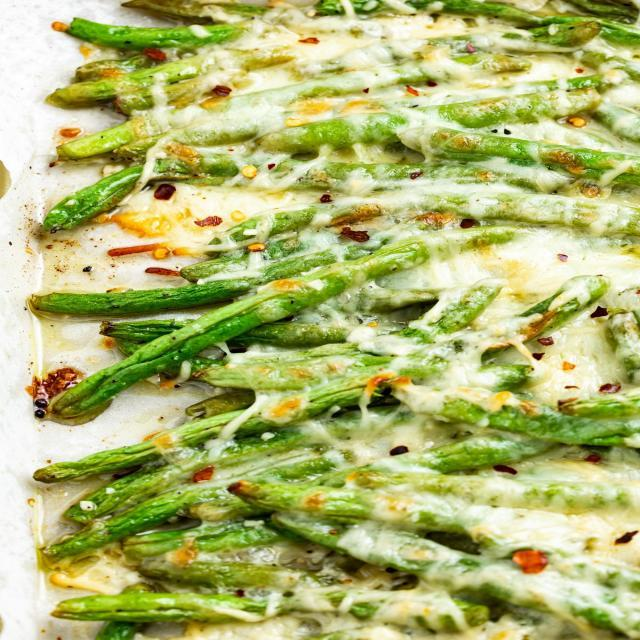Beans: (31, 3, 638, 637)
